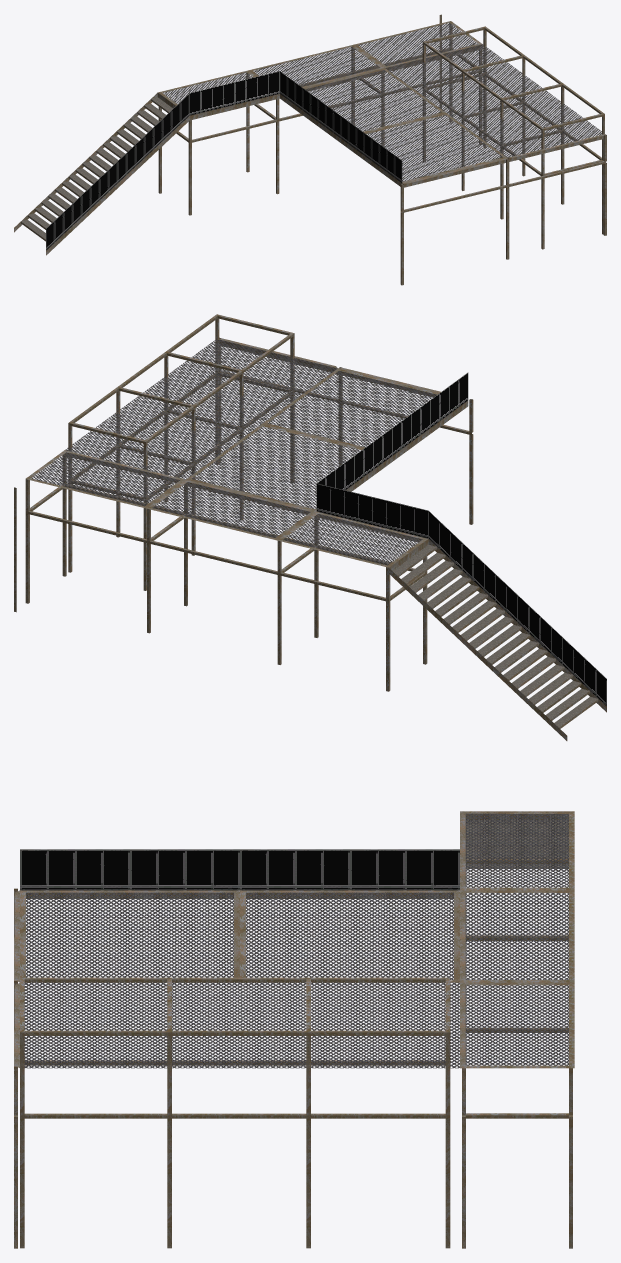
File: crackfactwalkd.obj
3 renders of one model, top to bottom at view 1: azimuth 30°, elevation 25°; view 2: azimuth 150°, elevation 25°; view 3: azimuth 270°, elevation 25°, orthographic. The views are drawn at different scales.
Parts seen in each view (by area): view 1: crackfactwalkd; view 2: crackfactwalkd; view 3: crackfactwalkd.
Boxes of the visible parts, bbox=[...] form: crackfactwalkd: bbox=[14, 14, 606, 285]; crackfactwalkd: bbox=[14, 314, 606, 740]; crackfactwalkd: bbox=[14, 811, 574, 1248].
Size of the model in its own units: 19.15 by 5.35 by 12.52.
4 materials, 4 textured.
